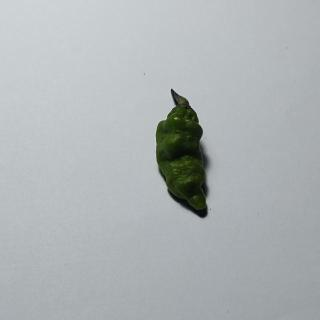Cabai Hijau: (151, 83, 215, 219)
